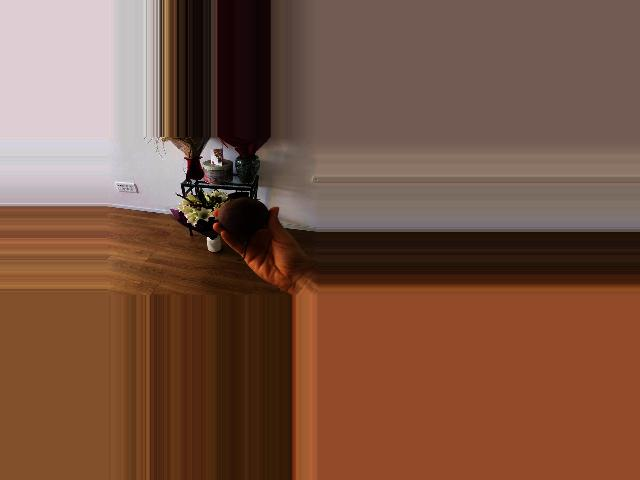beet: (216, 192, 268, 261)
